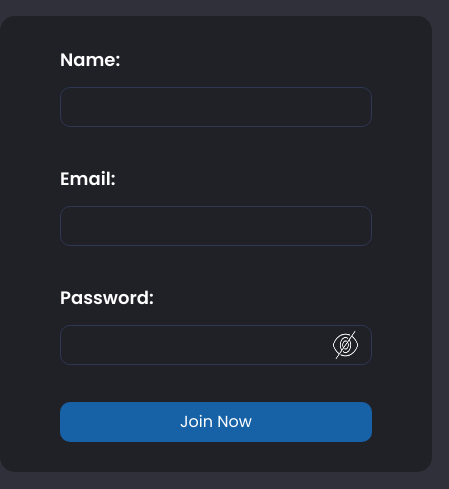
Test: Alerta de error › Spans de información incorrecta › Si el nombre tiene un cáracter inválido
In the field labelled "Name:": {"x": 216, "y": 107} [60, 87, 372, 127], type "@"
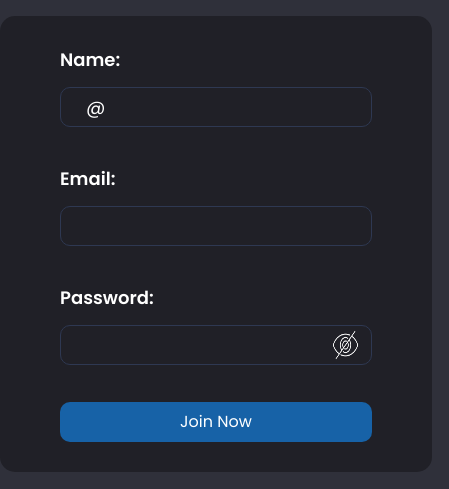
Leave the field labelled "Name:", box [60, 87, 372, 127]
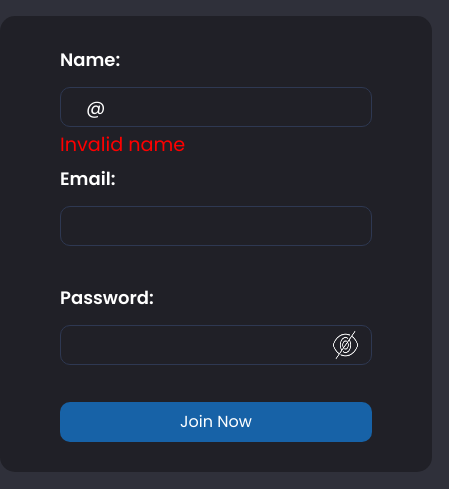
Check: the text "Invalid name" is shown, box [60, 131, 185, 158]
